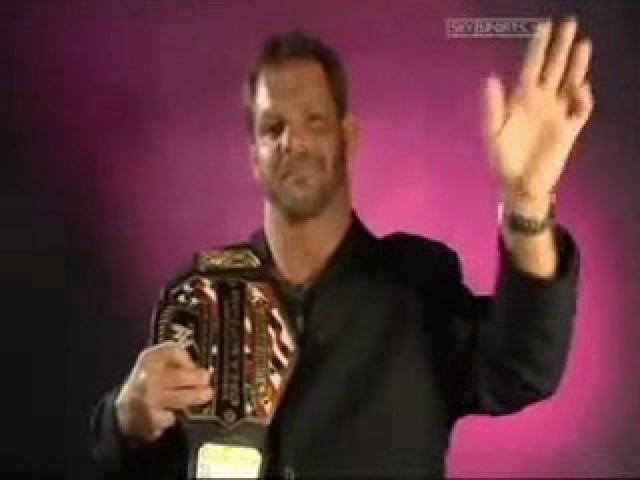L: (95, 24, 584, 478)
